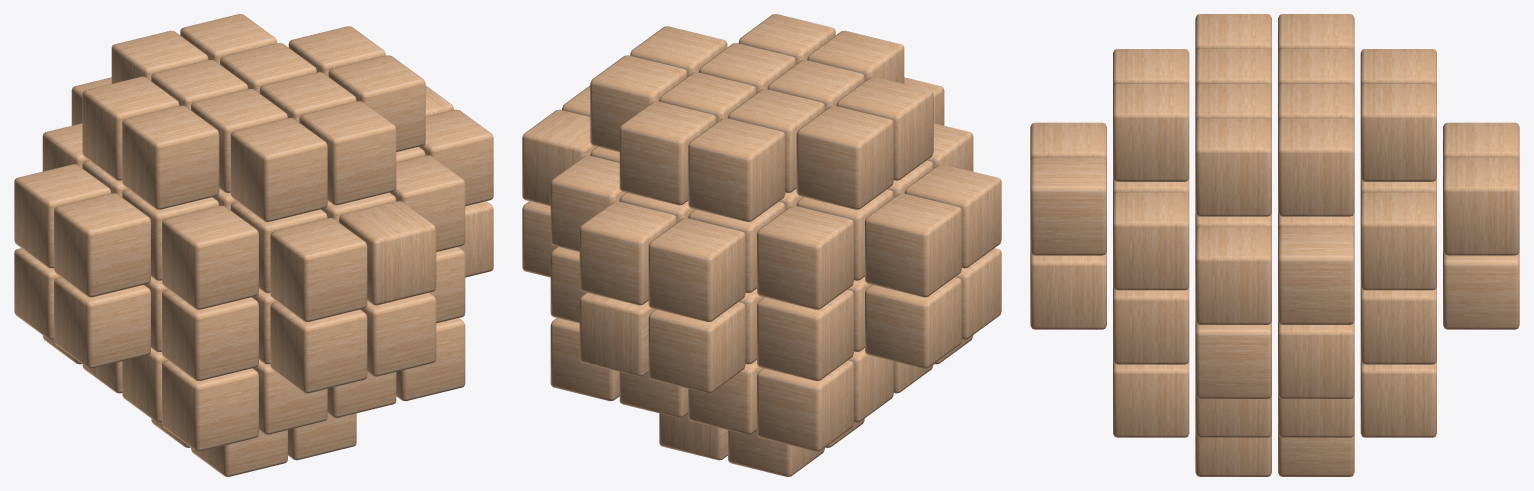
File: level_64.fbx
The picture shows the model from 3 angles, left to right: view 1: azimuth 30°, elevation 25°; view 2: azimuth 150°, elevation 25°; view 3: azimuth 270°, elevation 25°; orthographic projection. The views are drawn at different scales.
Visible parts, largest first — view 1: Cube.082, Cube.022, Cube.058, Cube.087, Cube.123, Cube.062, Cube.088, Cube.124, Cube.021, Cube.057, Cube.098, Cube.008 (+31 smaller); view 2: Cube.090, Cube.150, Cube.170, Cube.131, Cube.187, Cube.174, Cube.188, Cube.132, Cube.149, Cube.169, Cube.193, Cube.040 (+31 smaller); view 3: Cube.028, Cube.156, Cube.008, Cube.021, Cube.040, Cube.057, Cube.149, Cube.169, Cube.011, Cube.043, Cube.061, Cube.173 (+24 smaller).
Part boxes in pixels (bbox=[...]): Cube.082: bbox=[122, 105, 219, 209]; Cube.022: bbox=[230, 118, 327, 221]; Cube.058: bbox=[270, 218, 367, 321]; Cube.087: bbox=[162, 205, 258, 309]; Cube.123: bbox=[54, 193, 150, 297]; Cube.062: bbox=[270, 302, 367, 393]; Cube.088: bbox=[162, 289, 258, 380]; Cube.124: bbox=[54, 277, 150, 368]; Cube.021: bbox=[299, 101, 396, 205]; Cube.057: bbox=[339, 201, 436, 305]; Cube.098: bbox=[162, 360, 258, 451]; Cube.008: bbox=[328, 55, 425, 151]; Cube.090: bbox=[796, 105, 893, 209]; Cube.150: bbox=[688, 118, 785, 221]; Cube.170: bbox=[648, 218, 745, 321]; Cube.131: bbox=[865, 193, 961, 297]; Cube.187: bbox=[757, 205, 853, 309]; Cube.174: bbox=[648, 302, 745, 393]; Cube.188: bbox=[757, 289, 853, 380]; Cube.132: bbox=[865, 277, 961, 368]; Cube.149: bbox=[619, 101, 716, 205]; Cube.169: bbox=[579, 201, 676, 305]; Cube.193: bbox=[757, 360, 853, 451]; Cube.040: bbox=[590, 55, 687, 151]; Cube.028: bbox=[1113, 192, 1189, 290]; Cube.156: bbox=[1360, 192, 1436, 290]; Cube.008: bbox=[1195, 118, 1271, 216]; Cube.021: bbox=[1113, 83, 1189, 181]; Cube.040: bbox=[1278, 118, 1354, 216]; Cube.057: bbox=[1030, 157, 1106, 255]; Cube.149: bbox=[1360, 83, 1436, 181]; Cube.169: bbox=[1443, 157, 1519, 255]; Cube.011: bbox=[1195, 227, 1271, 324]; Cube.043: bbox=[1278, 227, 1354, 324]; Cube.061: bbox=[1030, 251, 1106, 329]; Cube.173: bbox=[1443, 251, 1519, 329].
Size of the model in its own units: 12.41 by 10.23 by 12.45.
